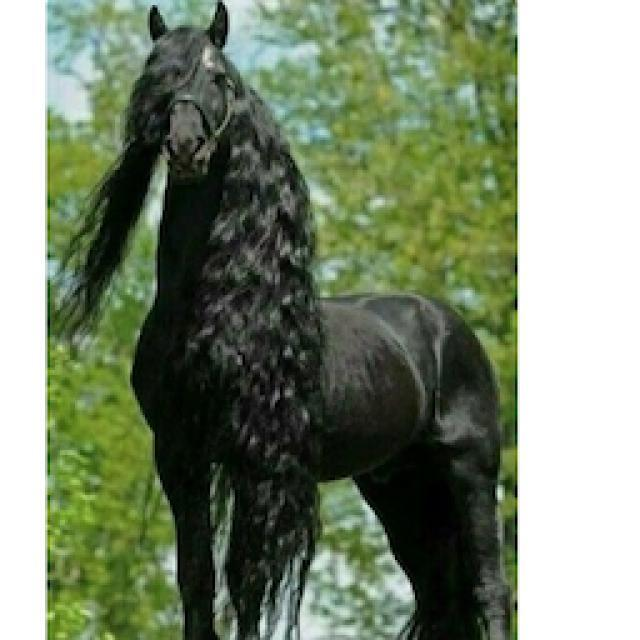Horse: (52, 0, 520, 638)
